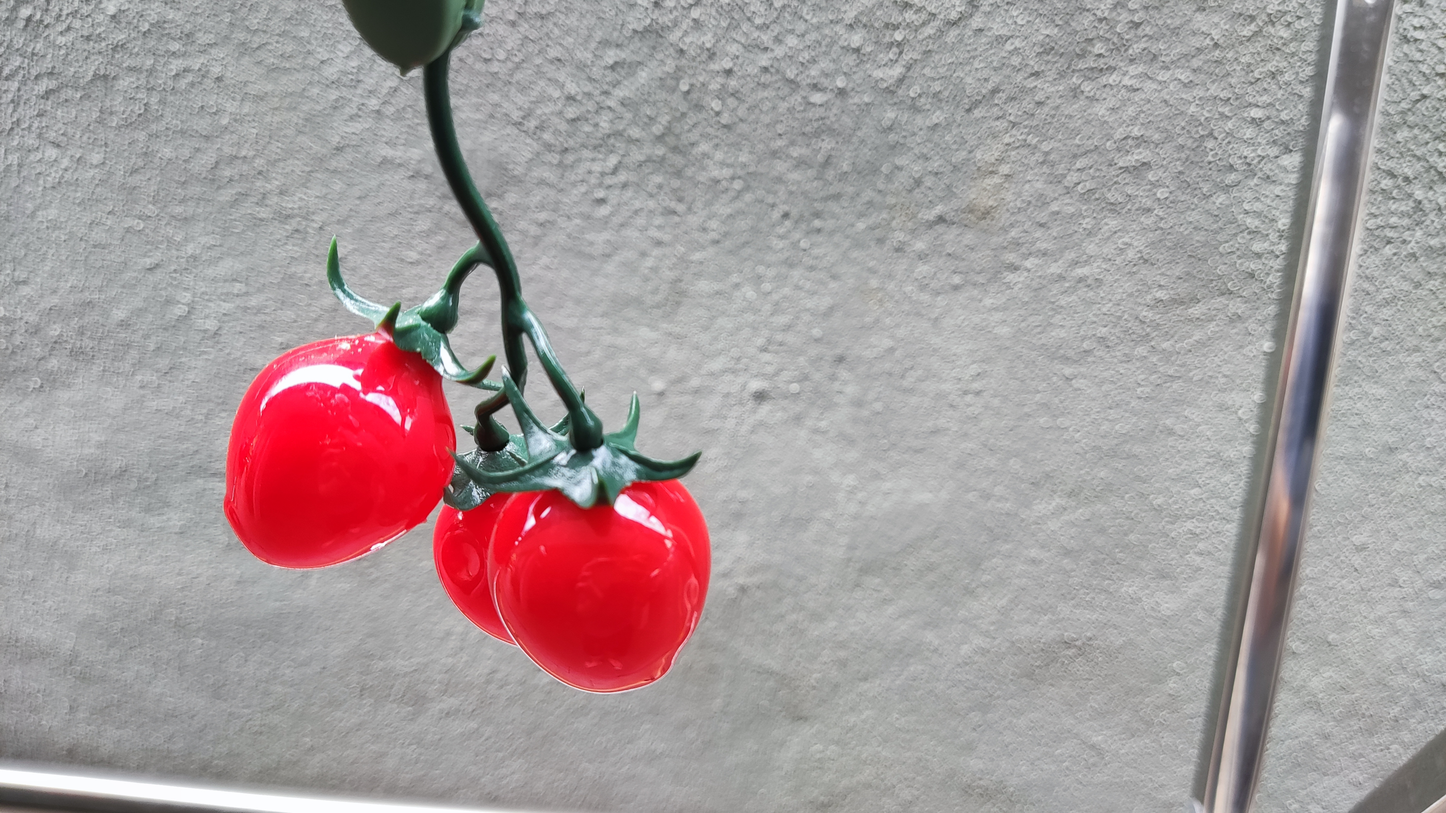peduncle: (422, 62, 498, 239)
strawberry: (222, 330, 454, 568), (487, 479, 710, 692), (432, 492, 514, 644)
